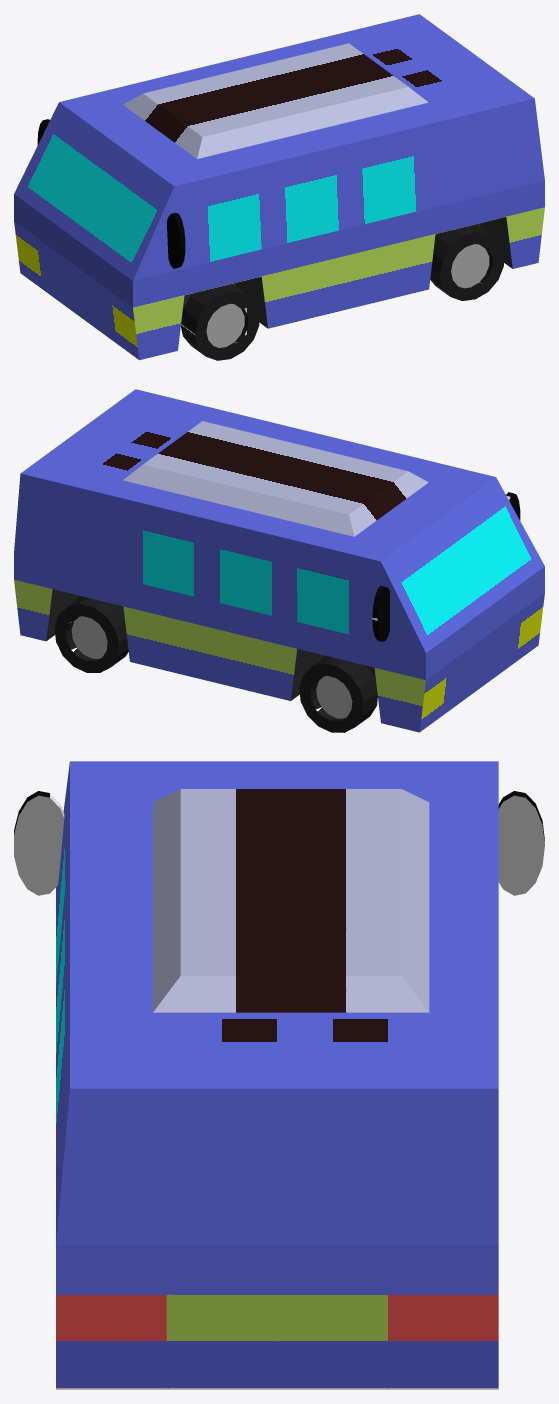
The model's file is SITP.fbx.
The picture shows the model from 3 angles, top to bottom: view 1: azimuth 30°, elevation 25°; view 2: azimuth 150°, elevation 25°; view 3: azimuth 270°, elevation 25°; orthographic projection. The views are drawn at different scales.
Visible parts, largest first — view 1: cuboid, cuboid_1, cylinder, cylinder_1, cylinder_4; view 2: cuboid, cuboid_1, cylinder_3, cylinder_2, cylinder_5; view 3: cuboid, cuboid_1, cylinder_4, cylinder_5.
Boxes of the visible parts, x1,y1,x2,y2 form: cuboid: (14,14,544,360); cuboid_1: (123,43,428,158); cylinder: (181,284,259,360); cylinder_1: (430,224,503,300); cylinder_4: (166,212,185,268); cuboid: (14,389,544,732); cuboid_1: (123,421,428,536); cylinder_3: (299,656,377,732); cylinder_2: (54,596,128,672); cylinder_5: (372,586,389,641); cuboid: (56,761,498,1389); cuboid_1: (153,789,429,1012); cylinder_4: (14,791,64,895); cylinder_5: (498,791,544,895).
Bounding box in the file's own units: 100 × 45.61 × 60.
1 material, 1 textured.
